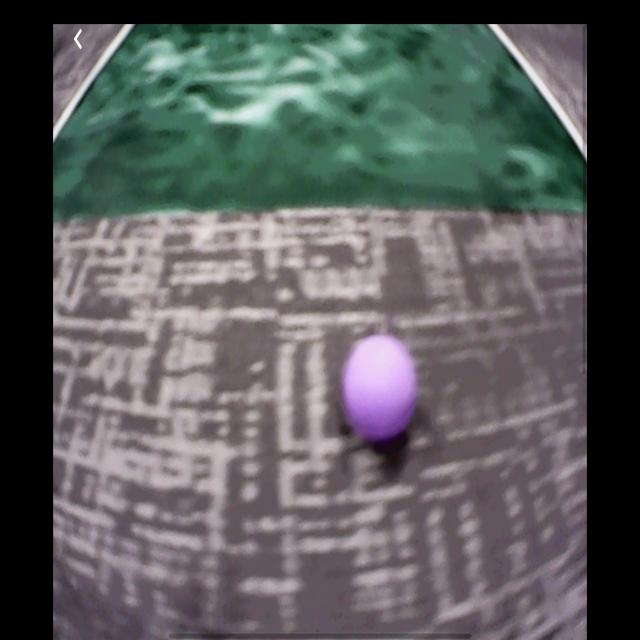ball: (340, 336, 419, 443)
